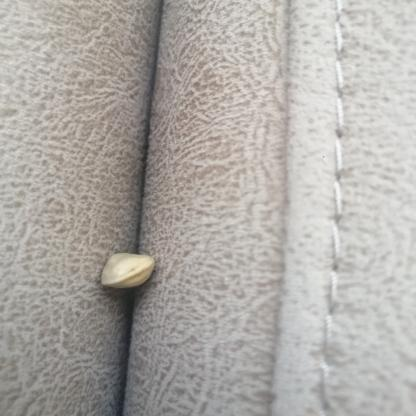pistachio: (101, 247, 156, 297)
